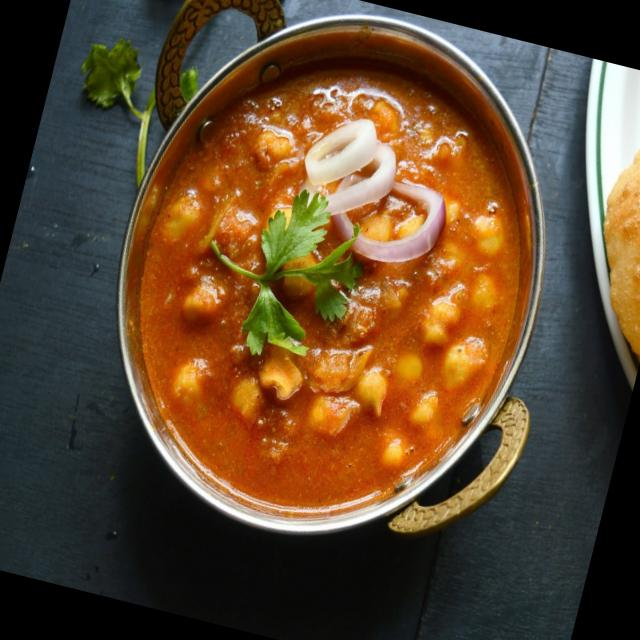Bhatura: (573, 73, 640, 357)
Chole: (93, 23, 564, 554)
